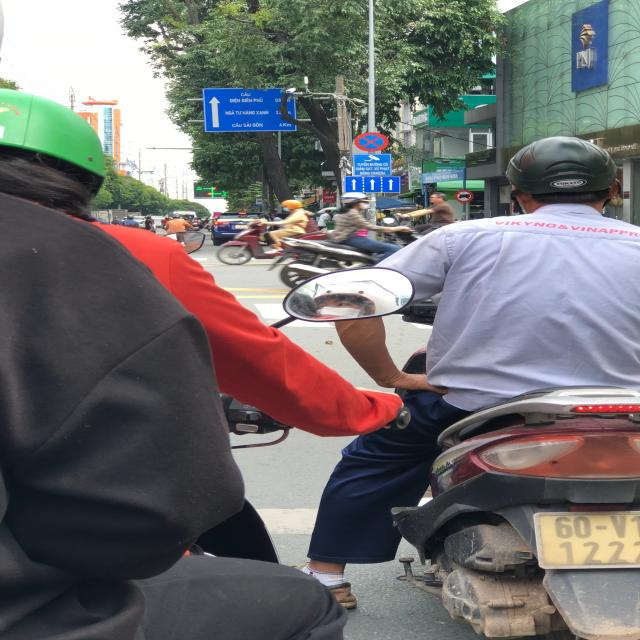Bien bao cam dung xe va do xe: (352, 131, 391, 153)
